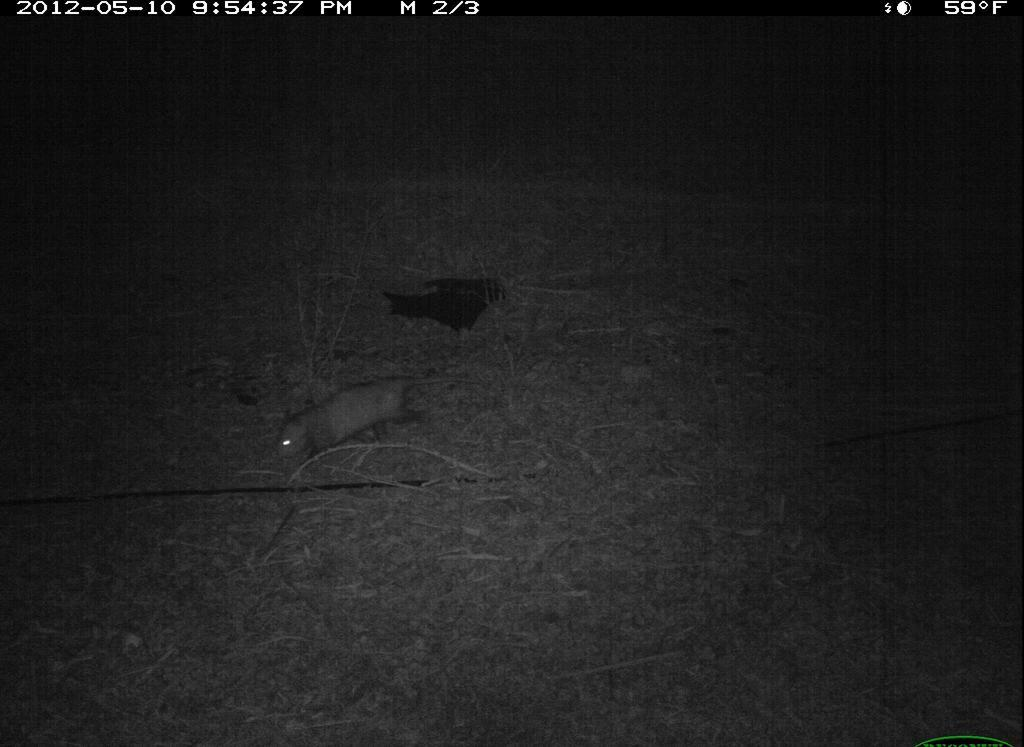opossum: (262, 358, 500, 477)
